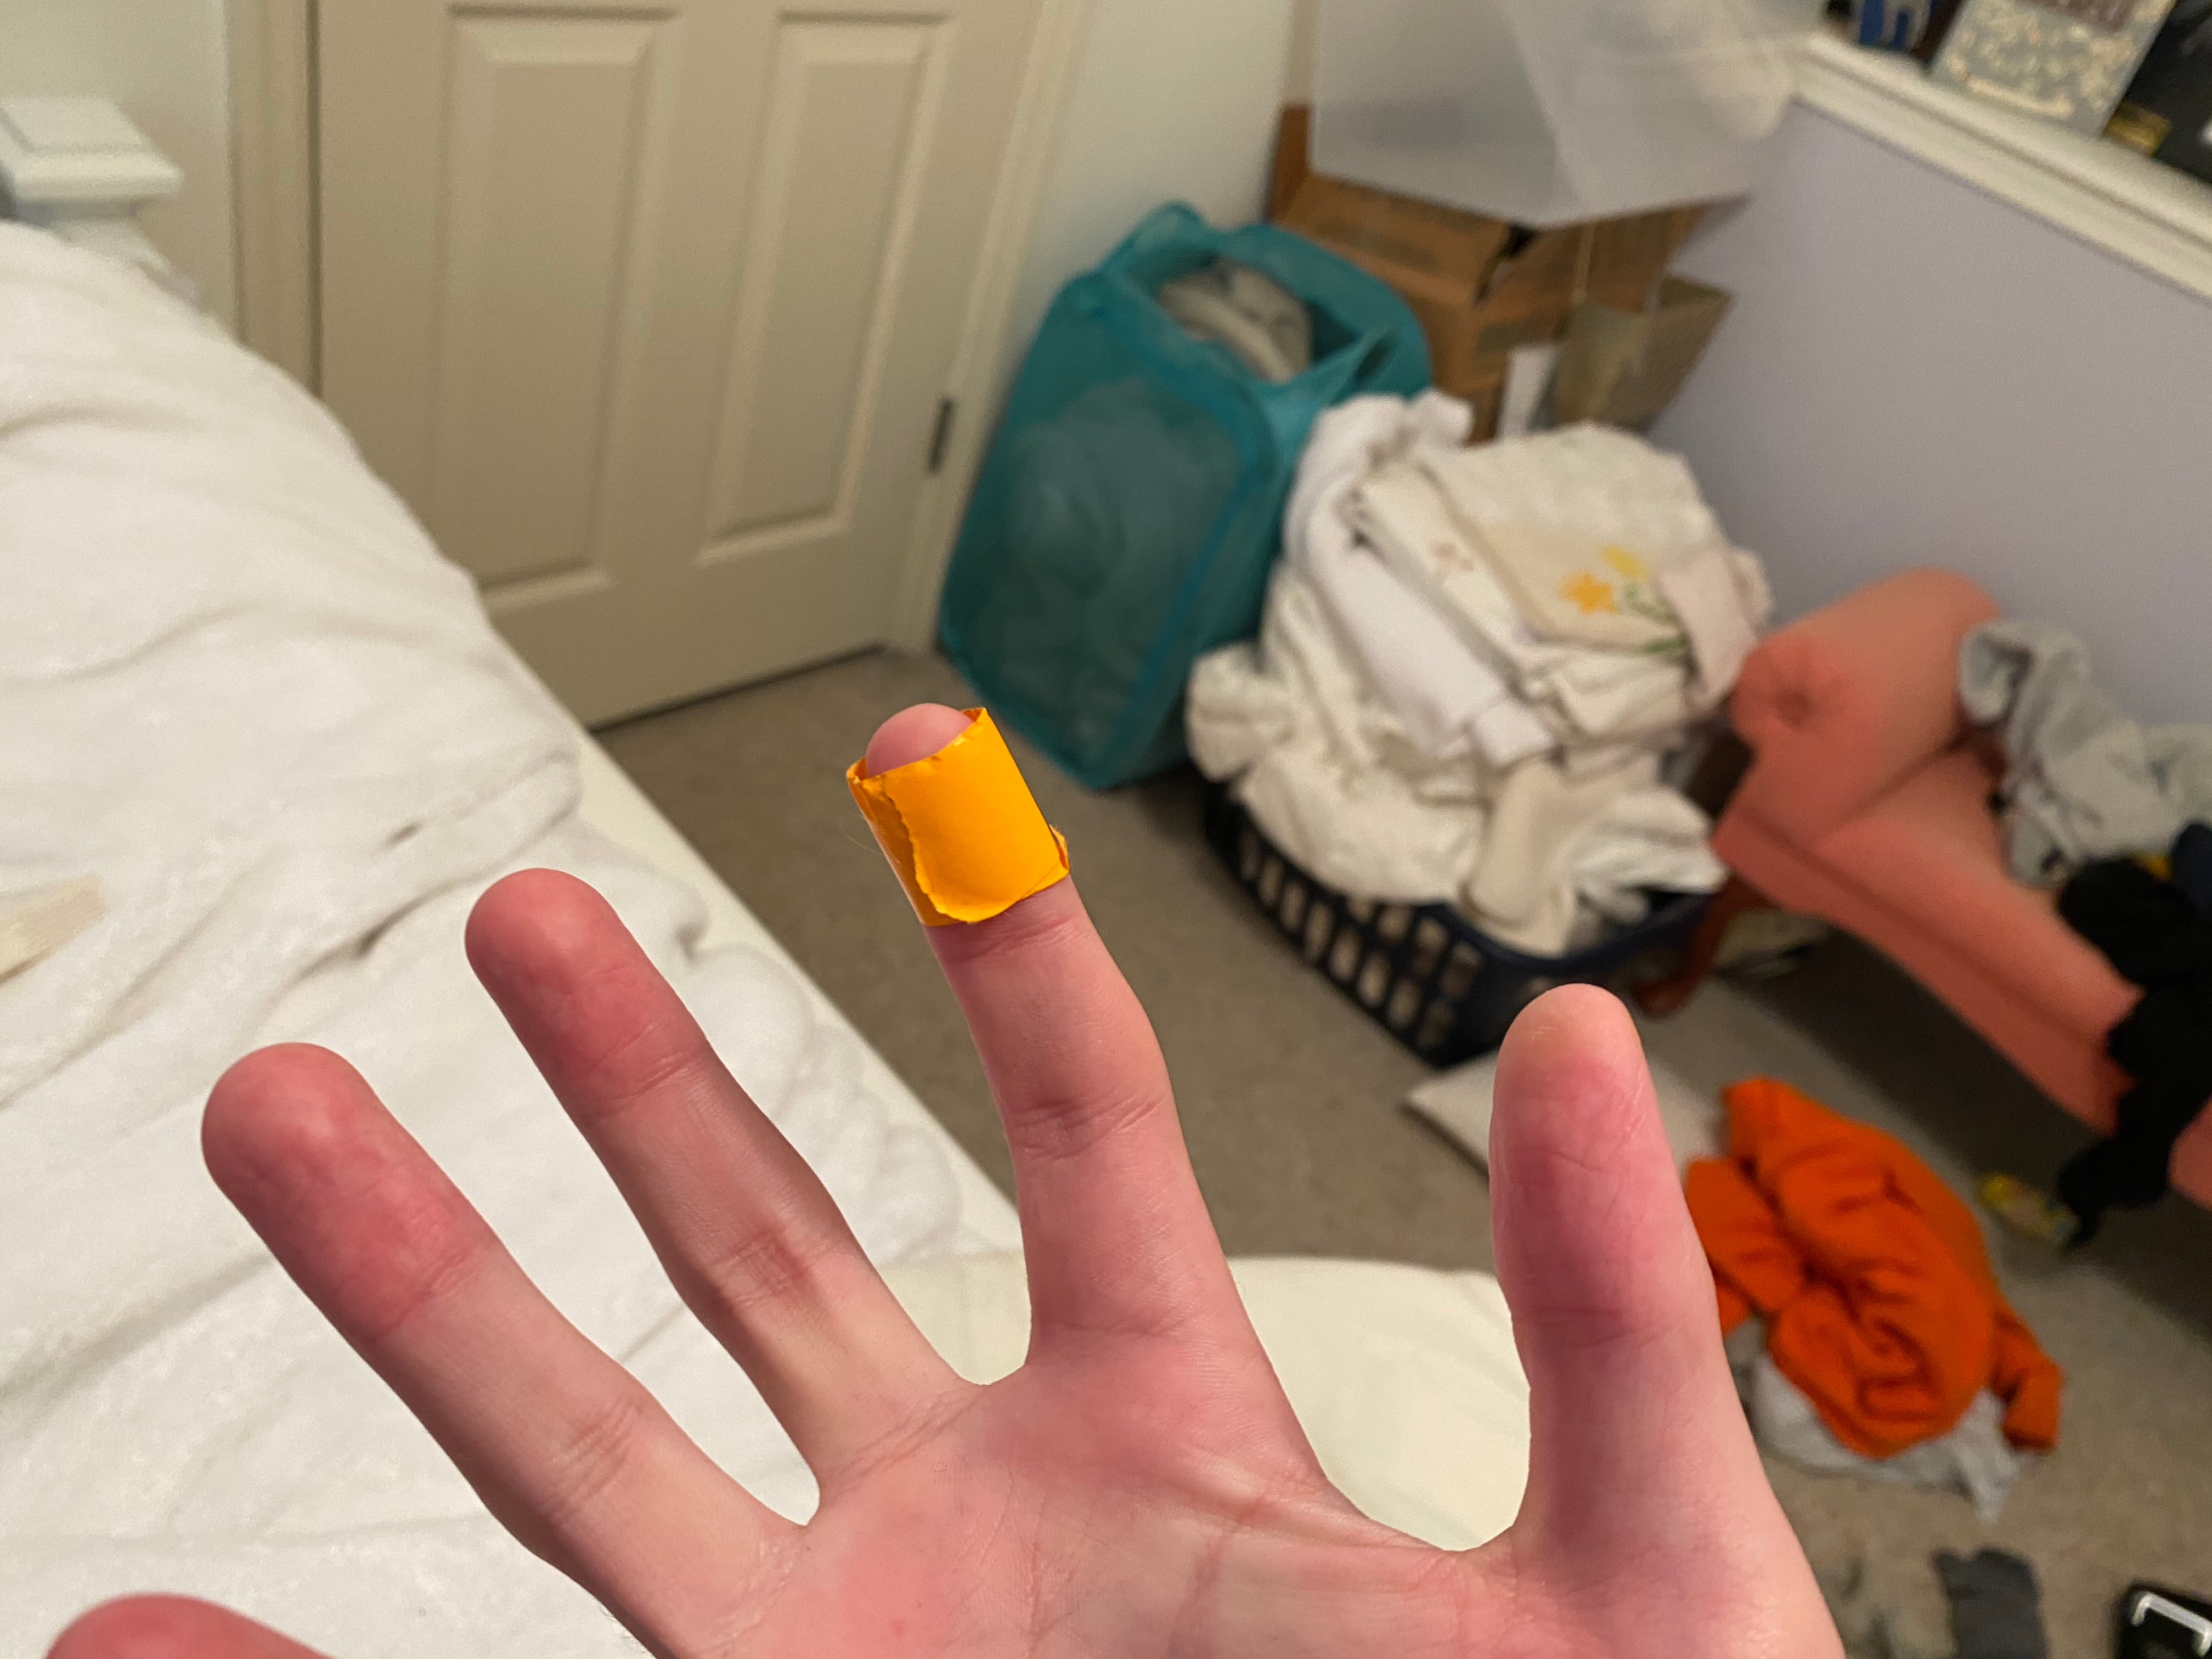fingertip: (834, 688, 1073, 950)
